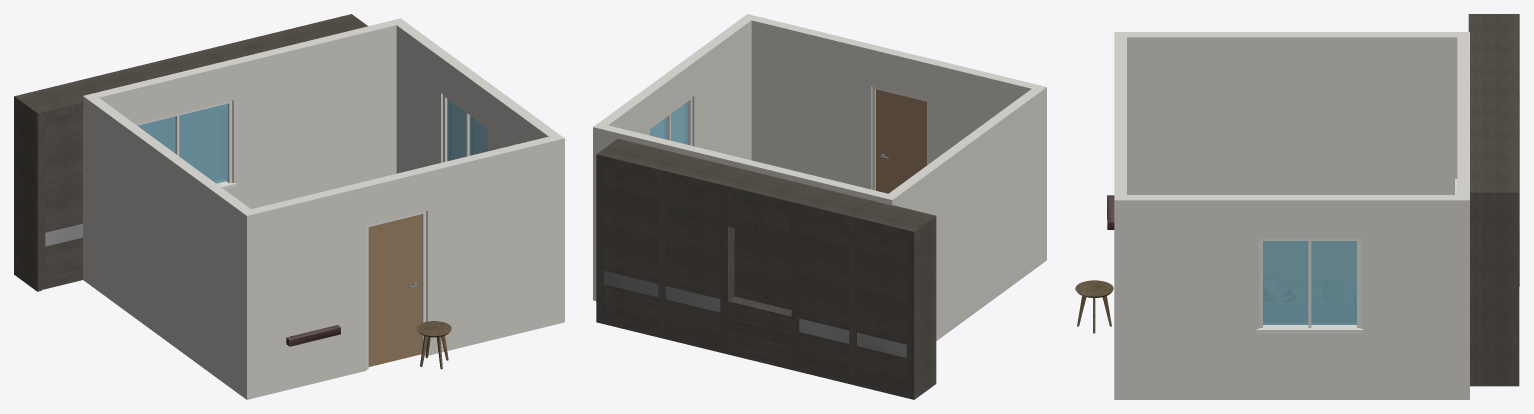
File: diffuscene.glb
3 views of the same model, side by side, from view 1: azimuth 30°, elevation 25°; view 2: azimuth 150°, elevation 25°; view 3: azimuth 270°, elevation 25° (orthographic). The views are drawn at different scales.
Parts seen in each view (by area): view 1: wall|scenesmith_020__R00|0, wall|scenesmith_020__R00|1, wall|scenesmith_020__R00|2, raw_model.001, wall|scenesmith_020__R00|3, wall|scenesmith_020__R00|0 Door 0 | wood leaf, wall|scenesmith_020__R00|1 Window 0 | glazing, wall|scenesmith_020__R00|3 Window 0 | glazing, wall|scenesmith_020__R00|0 Door 0 | jamb, wall|scenesmith_020__R00|1 Window 0 | jamb, raw_model.003, wall|scenesmith_020__R00|3 Window 0 | jamb (+1 smaller); view 2: raw_model.001, wall|scenesmith_020__R00|0, wall|scenesmith_020__R00|2, wall|scenesmith_020__R00|3, wall|scenesmith_020__R00|0 Door 0 | wood leaf, wall|scenesmith_020__R00|1, wall|scenesmith_020__R00|3 Window 0 | glazing, wall|scenesmith_020__R00|0 Door 0 | jamb, wall|scenesmith_020__R00|3 Window 0 | jamb; view 3: wall|scenesmith_020__R00|3, wall|scenesmith_020__R00|2, raw_model.001, wall|scenesmith_020__R00|3 Window 0 | glazing, wall|scenesmith_020__R00|1, wall|scenesmith_020__R00|0, wall|scenesmith_020__R00|3 Window 0 | jamb, raw_model.003.
Boxes of the visible parts, x1,y1,x2,y2 form: wall|scenesmith_020__R00|0: (247,136,554,399); wall|scenesmith_020__R00|1: (83,18,406,283); wall|scenesmith_020__R00|2: (88,98,256,399); raw_model.001: (14,14,367,291); wall|scenesmith_020__R00|3: (396,22,564,324); wall|scenesmith_020__R00|0 Door 0 | wood leaf: (368,214,422,366); wall|scenesmith_020__R00|1 Window 0 | glazing: (137,103,227,183); wall|scenesmith_020__R00|3 Window 0 | glazing: (447,99,487,161); wall|scenesmith_020__R00|0 Door 0 | jamb: (366,211,426,369); wall|scenesmith_020__R00|1 Window 0 | jamb: (135,100,236,189); raw_model.003: (416,321,451,369); wall|scenesmith_020__R00|3 Window 0 | jamb: (443,95,487,162); raw_model.001: (596,138,936,399); wall|scenesmith_020__R00|0: (751,16,1036,189); wall|scenesmith_020__R00|2: (883,85,1046,340); wall|scenesmith_020__R00|3: (593,14,756,300); wall|scenesmith_020__R00|0 Door 0 | wood leaf: (876,89,926,193); wall|scenesmith_020__R00|1: (593,123,897,206); wall|scenesmith_020__R00|3 Window 0 | glazing: (650,101,688,144); wall|scenesmith_020__R00|0 Door 0 | jamb: (872,86,928,190); wall|scenesmith_020__R00|3 Window 0 | jamb: (650,97,692,145); wall|scenesmith_020__R00|3: (1114,195,1457,399); wall|scenesmith_020__R00|2: (1114,32,1457,194); raw_model.001: (1468,14,1519,386); wall|scenesmith_020__R00|3 Window 0 | glazing: (1263,241,1356,324); wall|scenesmith_020__R00|1: (1457,32,1469,399); wall|scenesmith_020__R00|0: (1114,37,1126,399); wall|scenesmith_020__R00|3 Window 0 | jamb: (1256,238,1363,333); raw_model.003: (1075,280,1113,333).
Bounding box in the file's own units: 5.41 × 2.61 × 5.24.
11 materials, 5 textured.
